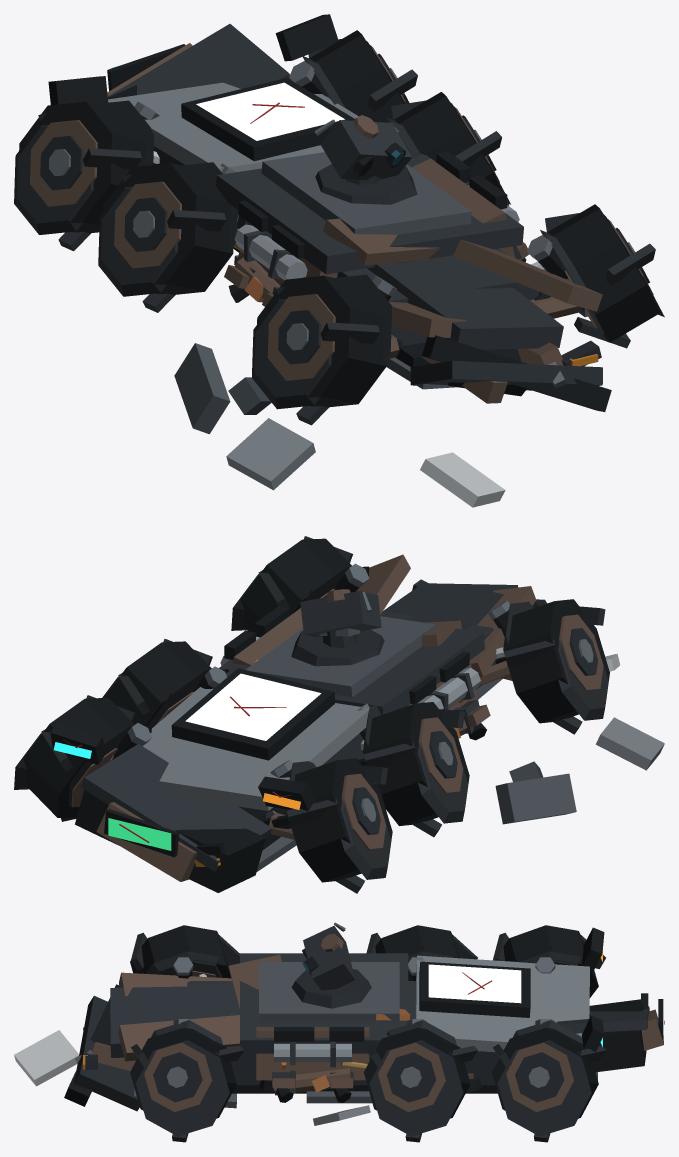
File: r47xs_recon_rover_d3_lod1.glb
3 renders of one model, top to bottom at view 1: azimuth 30°, elevation 25°; view 2: azimuth 150°, elevation 25°; view 3: azimuth 270°, elevation 25°, orthographic. The views are drawn at different scales.
Visible parts, largest first — view 1: CHASSIS_ARMOR_BODY, ZONE_FRONT_BUMPER, WHEEL_FL, WHEEL_ML, WHEEL_RL, WHEEL_FR, ZONE_REAR_PANEL, ZONE_FLANK_NEG_X, WHEEL_RR, ZONE_FLANK_POS_X, WHEEL_MR, DISPLAY_FDAI_TELEMETRY_PANEL (+7 smaller); view 2: CHASSIS_ARMOR_BODY, ZONE_REAR_PANEL, WHEEL_FL, WHEEL_ML, WHEEL_RL, ZONE_FRONT_BUMPER, WHEEL_RR, WHEEL_FR, WHEEL_MR, DISPLAY_FDAI_TELEMETRY_PANEL, ZONE_FLANK_NEG_X, ZONE_FLANK_POS_X (+9 smaller); view 3: CHASSIS_ARMOR_BODY, ZONE_FRONT_BUMPER, WHEEL_FR, WHEEL_MR, WHEEL_RR, ZONE_FLANK_POS_X, ZONE_REAR_PANEL, WHEEL_FL, DISPLAY_FDAI_TELEMETRY_PANEL, WHEEL_RL, SENSOR_MAST_HEAD, WHEEL_ML (+6 smaller).
Boxes of the visible parts, left/top/right/bottom form: CHASSIS_ARMOR_BODY: left=108, top=78, right=538, bottom=367; ZONE_FRONT_BUMPER: left=367, top=239, right=611, bottom=411; WHEEL_FL: left=252, top=274, right=392, bottom=425; WHEEL_ML: left=98, top=162, right=237, bottom=312; WHEEL_RL: left=14, top=100, right=154, bottom=251; WHEEL_FR: left=540, top=204, right=664, bottom=348; ZONE_REAR_PANEL: left=107, top=24, right=291, bottom=99; ZONE_FLANK_NEG_X: left=48, top=76, right=337, bottom=302; WHEEL_RR: left=302, top=30, right=417, bottom=122; ZONE_FLANK_POS_X: left=275, top=14, right=519, bottom=257; WHEEL_MR: left=386, top=92, right=510, bottom=204; DISPLAY_FDAI_TELEMETRY_PANEL: left=196, top=82, right=344, bottom=140; CHASSIS_ARMOR_BODY: left=143, top=611, right=496, bottom=849; ZONE_REAR_PANEL: left=75, top=744, right=296, bottom=892; WHEEL_FL: left=503, top=599, right=609, bottom=734; WHEEL_ML: left=363, top=702, right=469, bottom=837; WHEEL_RL: left=286, top=758, right=392, bottom=893; ZONE_FRONT_BUMPER: left=356, top=554, right=546, bottom=699; WHEEL_RR: left=14, top=695, right=151, bottom=821; WHEEL_FR: left=231, top=536, right=369, bottom=632; WHEEL_MR: left=102, top=639, right=228, bottom=727; DISPLAY_FDAI_TELEMETRY_PANEL: left=185, top=673, right=321, bottom=740; ZONE_FLANK_NEG_X: left=258, top=651, right=480, bottom=811; ZONE_FLANK_POS_X: left=50, top=606, right=302, bottom=764; CHASSIS_ARMOR_BODY: left=187, top=953, right=589, bottom=1103; ZONE_FRONT_BUMPER: left=64, top=972, right=239, bottom=1111; WHEEL_FR: left=130, top=1020, right=244, bottom=1142; WHEEL_MR: left=363, top=1020, right=477, bottom=1142; WHEEL_RR: left=492, top=1020, right=606, bottom=1142; ZONE_FLANK_POS_X: left=256, top=1015, right=604, bottom=1095; ZONE_REAR_PANEL: left=487, top=993, right=663, bottom=1085; WHEEL_FL: left=130, top=925, right=239, bottom=978; DISPLAY_FDAI_TELEMETRY_PANEL: left=428, top=964, right=521, bottom=1003; WHEEL_RL: left=493, top=925, right=606, bottom=998; SENSOR_MAST_HEAD: left=302, top=922, right=355, bottom=990; WHEEL_ML: left=366, top=925, right=477, bottom=980.
Bounding box in the file's own units: 3.05 × 1.59 × 5.18.
